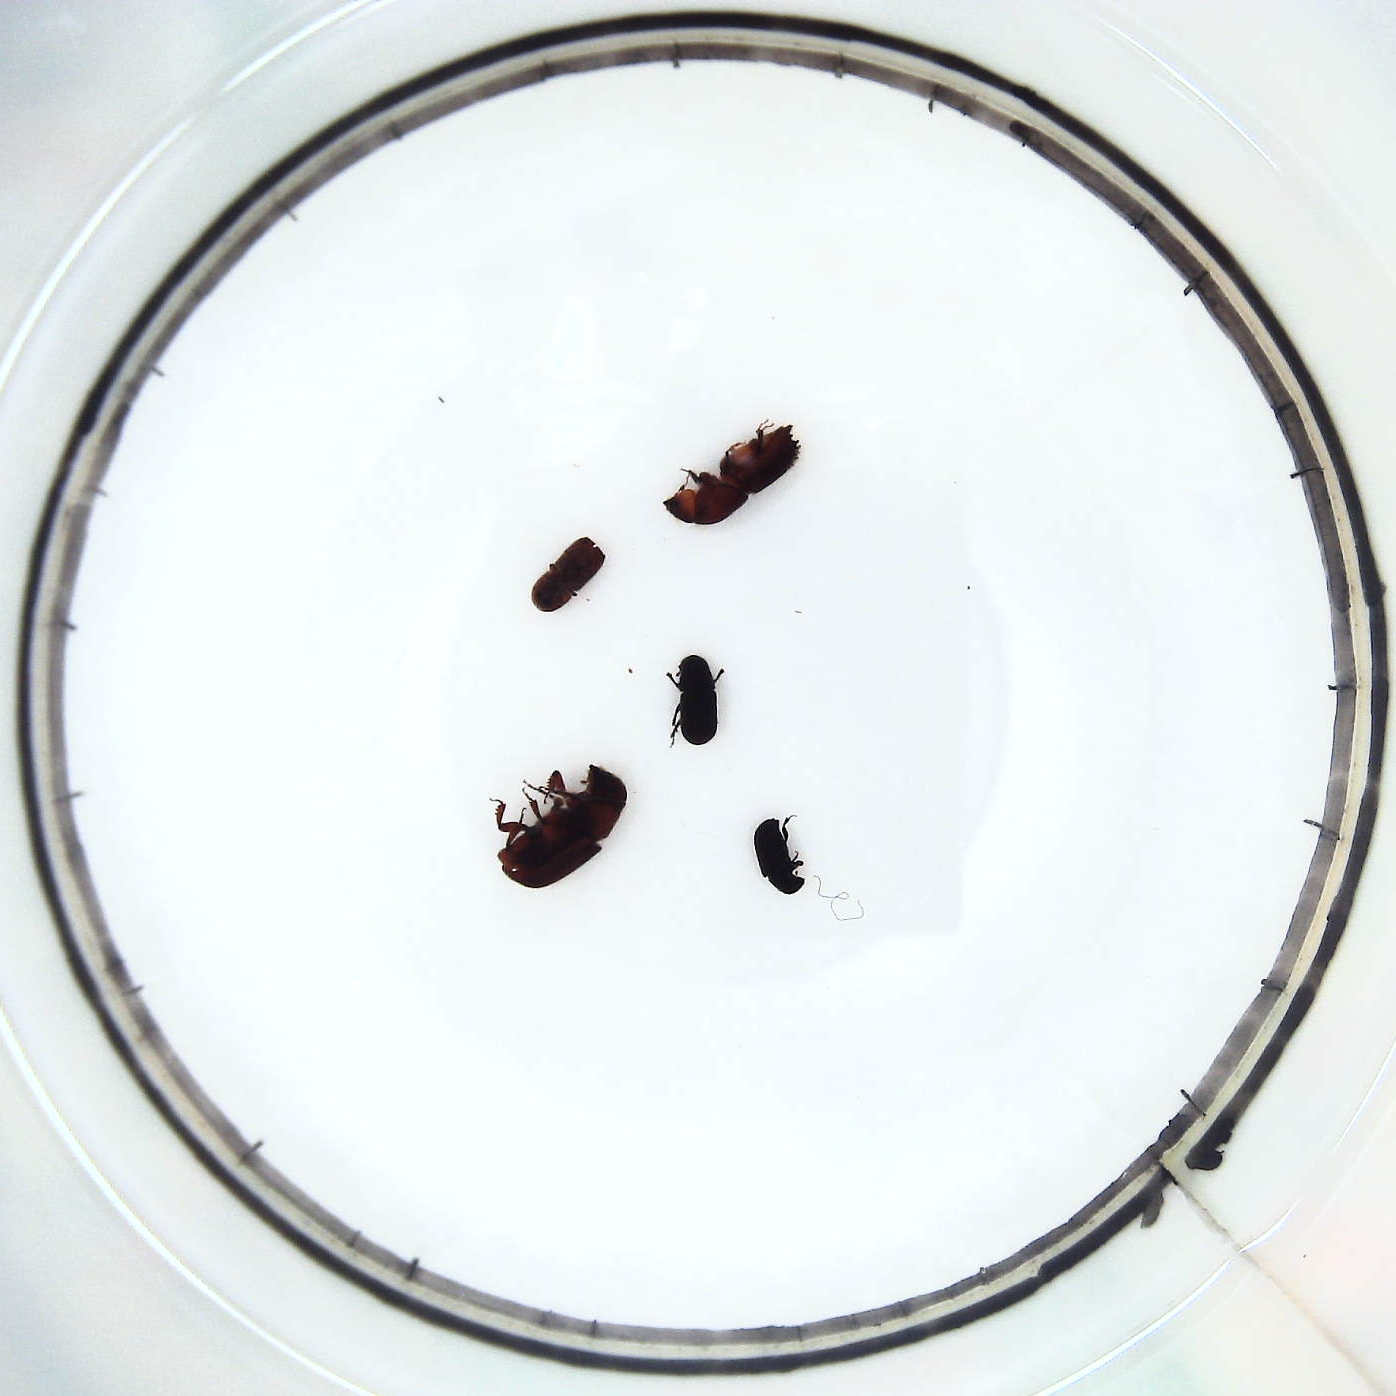Boerner: (656, 419, 809, 531)
Leconte: (492, 758, 632, 892)
armandi: (663, 651, 731, 750)
coleoptera: (750, 814, 807, 904)
linnaeus: (525, 534, 607, 617)
